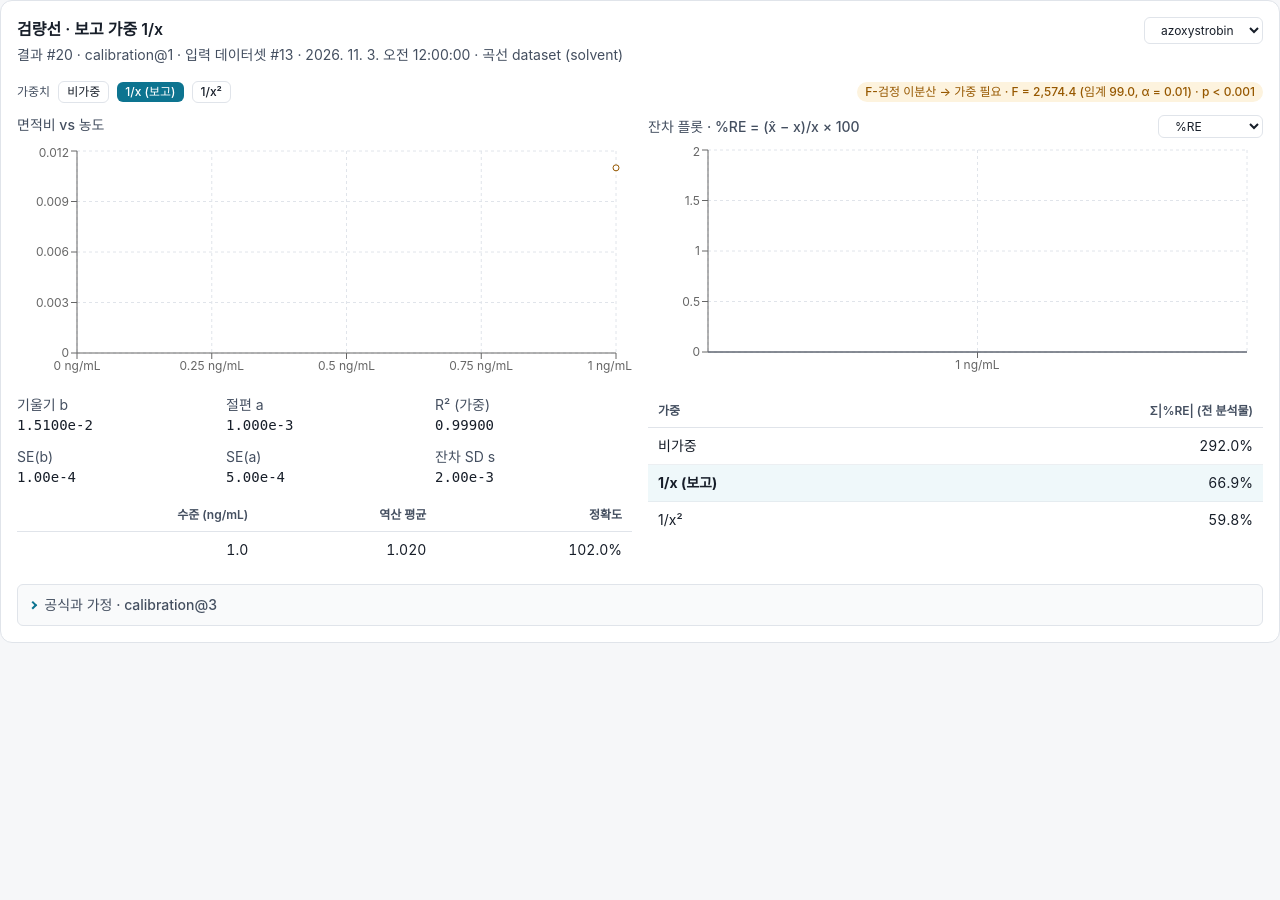
Test: CalibrationPanel › toggles between the backend fits of each weighting
Expected: the text "1.5100e-2" is shown, [17,417,93,433]
Click the button "비가중".
click(84, 92)  # box [58,81,109,103]
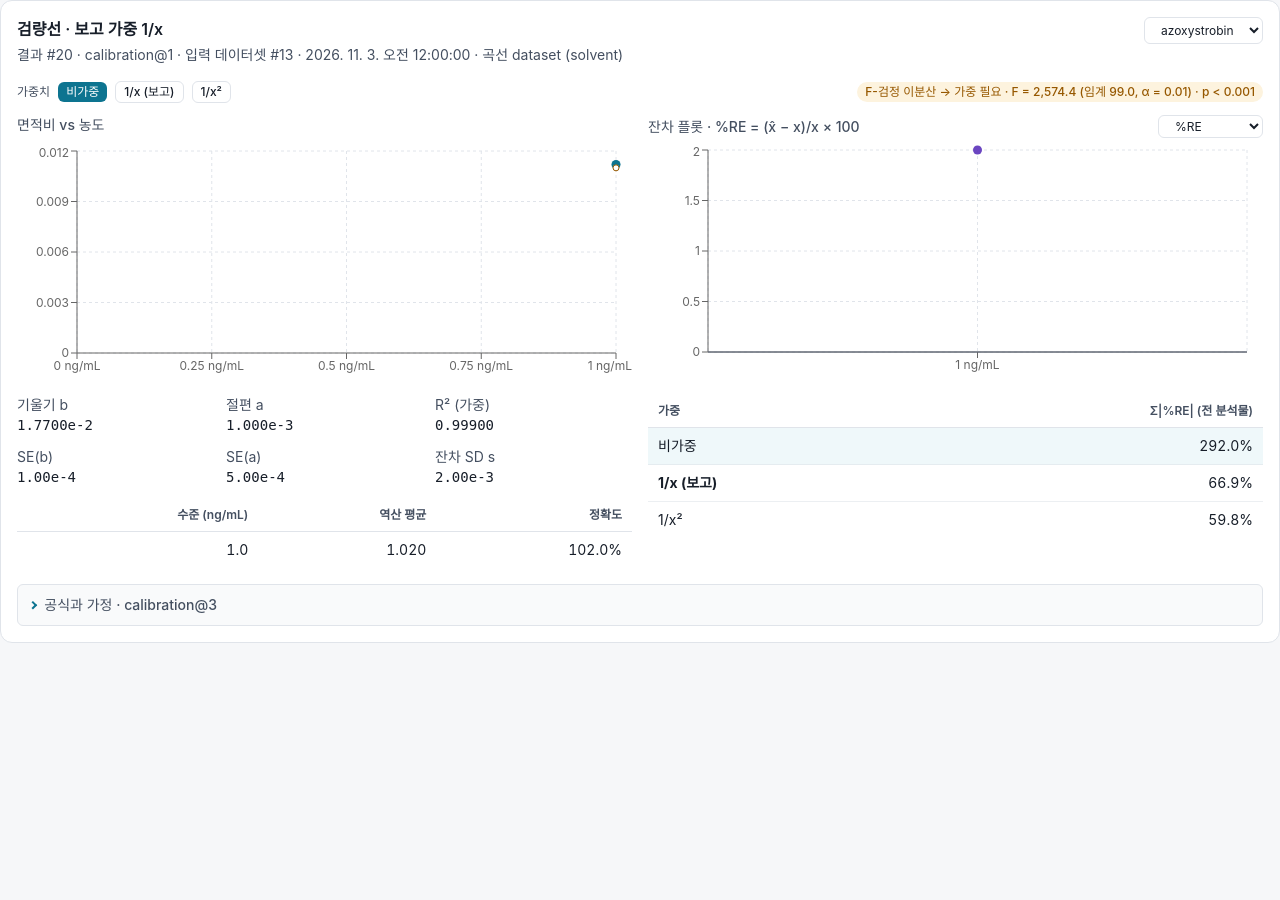
Now the text "1.7700e-2" is shown, box [17,417,93,433]
Click the button "1/x²".
click(211, 92)  # box [192,81,231,103]
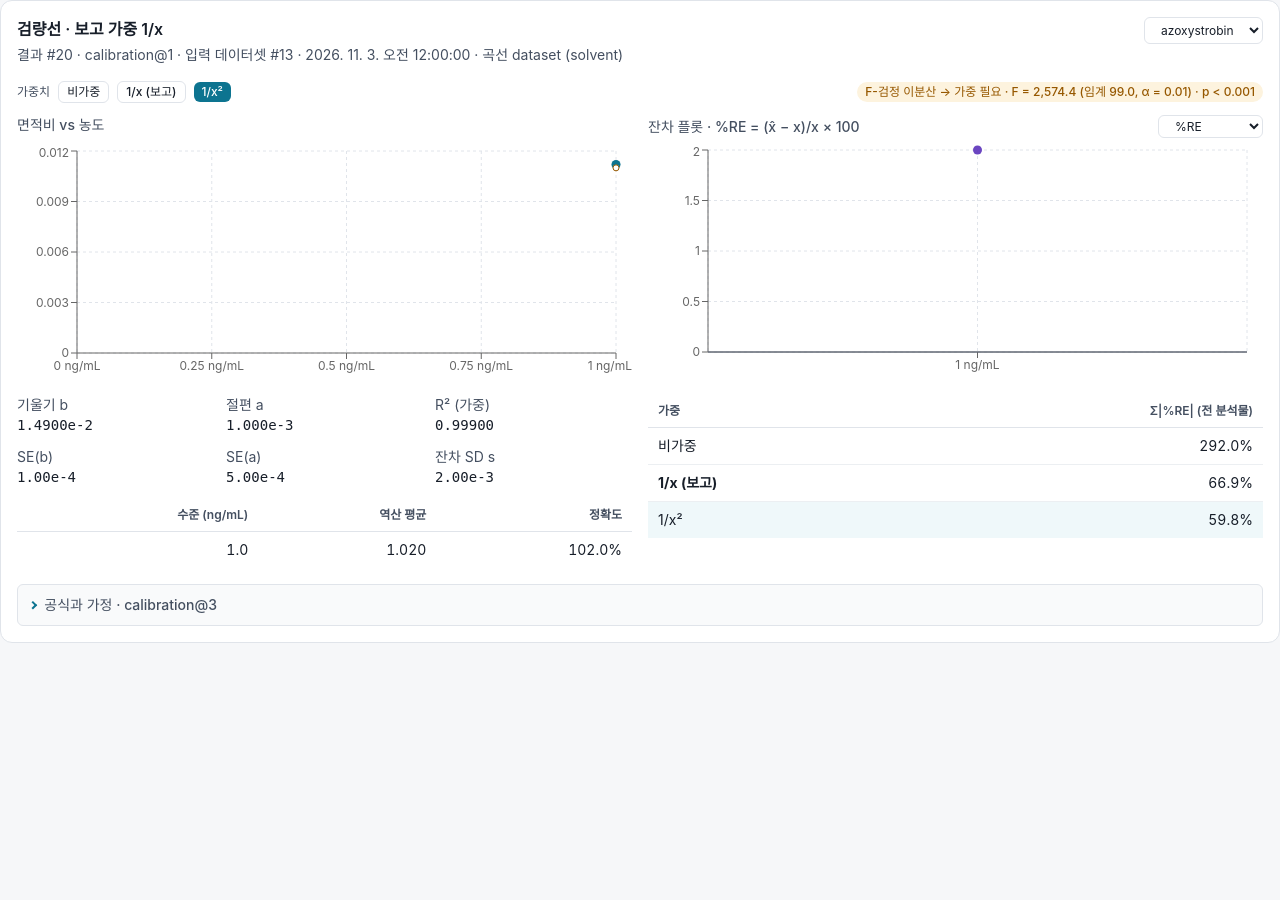
Now the text "1.4900e-2" is shown, box [17,417,93,433]
